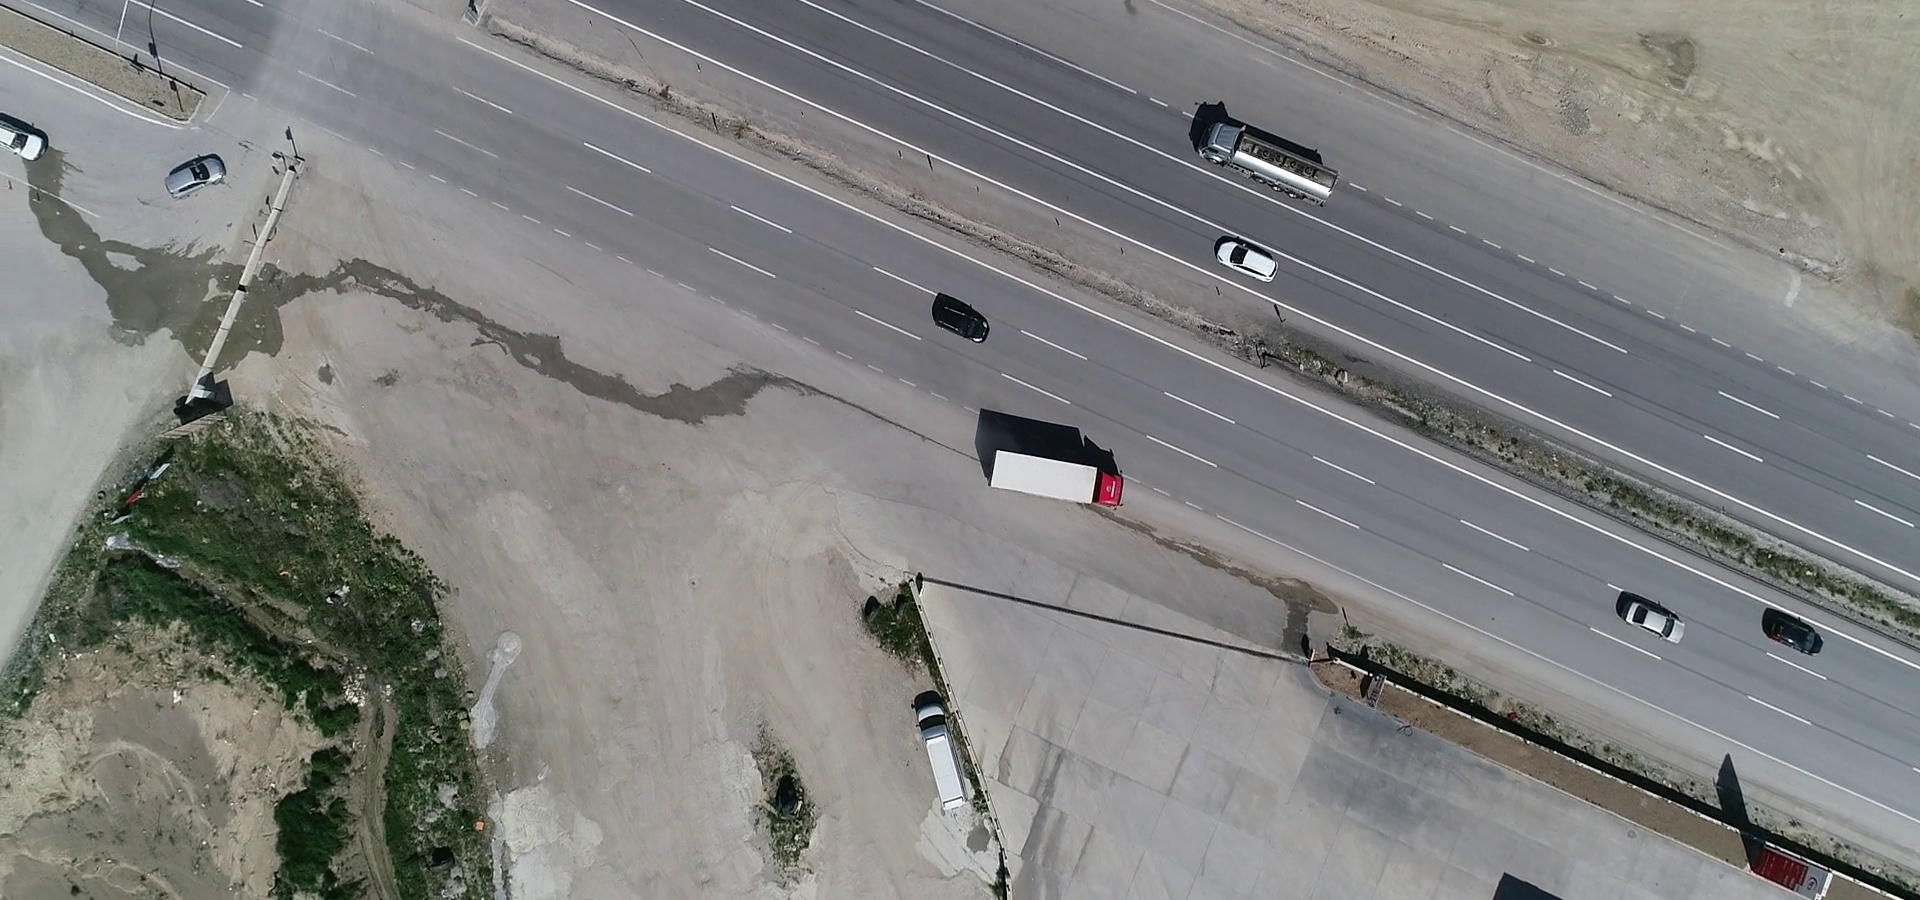araba: (1750, 602, 1842, 660), (1217, 228, 1291, 290), (160, 142, 238, 201), (1616, 591, 1700, 645), (933, 289, 996, 348), (1, 100, 58, 163)
kamyon: (1191, 107, 1341, 208), (980, 444, 1141, 516)
otobus: (907, 684, 975, 827)
